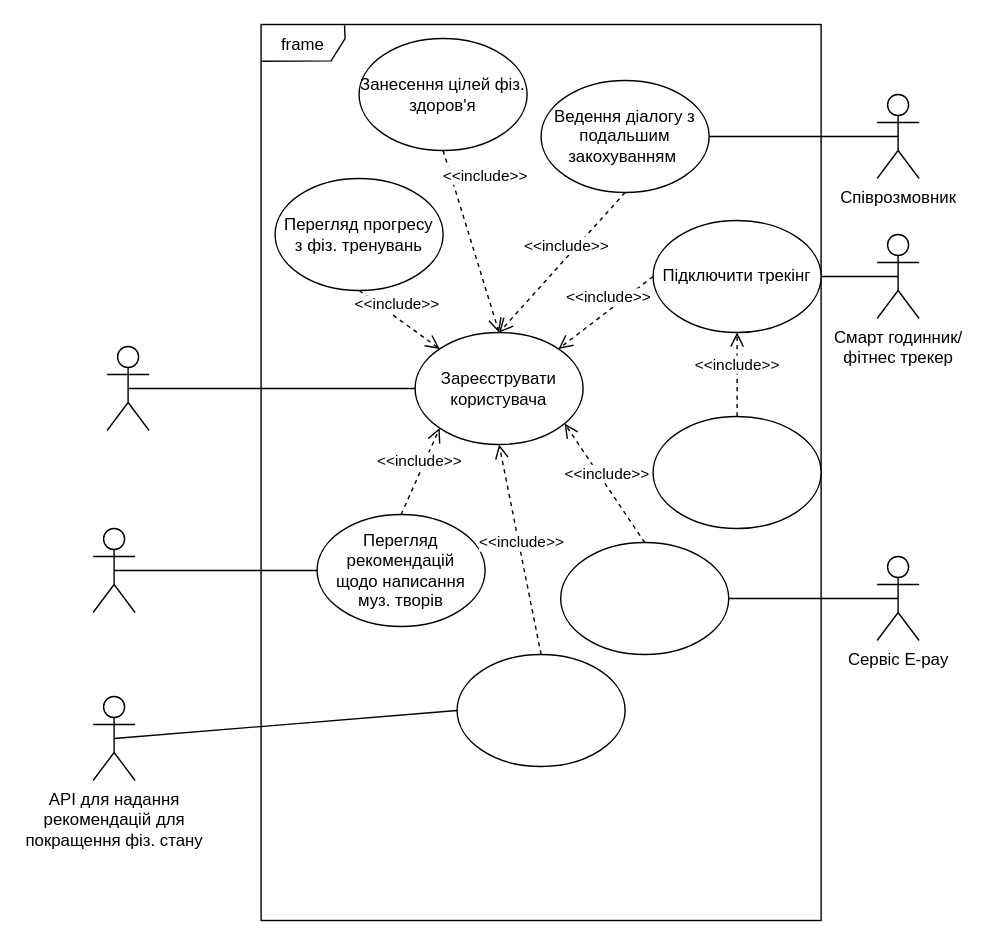
Image size: 987x945. Some labels were removed from this diagram. Each missing label, with the box of its shape:
API для надання рекомендацій з музики: (92, 527, 135, 612)
Користувач: (106, 345, 149, 430)
Перегляд даних з смарт годинника/ фітнес трекеру: (652, 415, 821, 528)
Перегляд рекомендацій щодо покращення фіз. стану: (456, 653, 625, 766)
Сплатити підписку: (559, 541, 729, 654)
